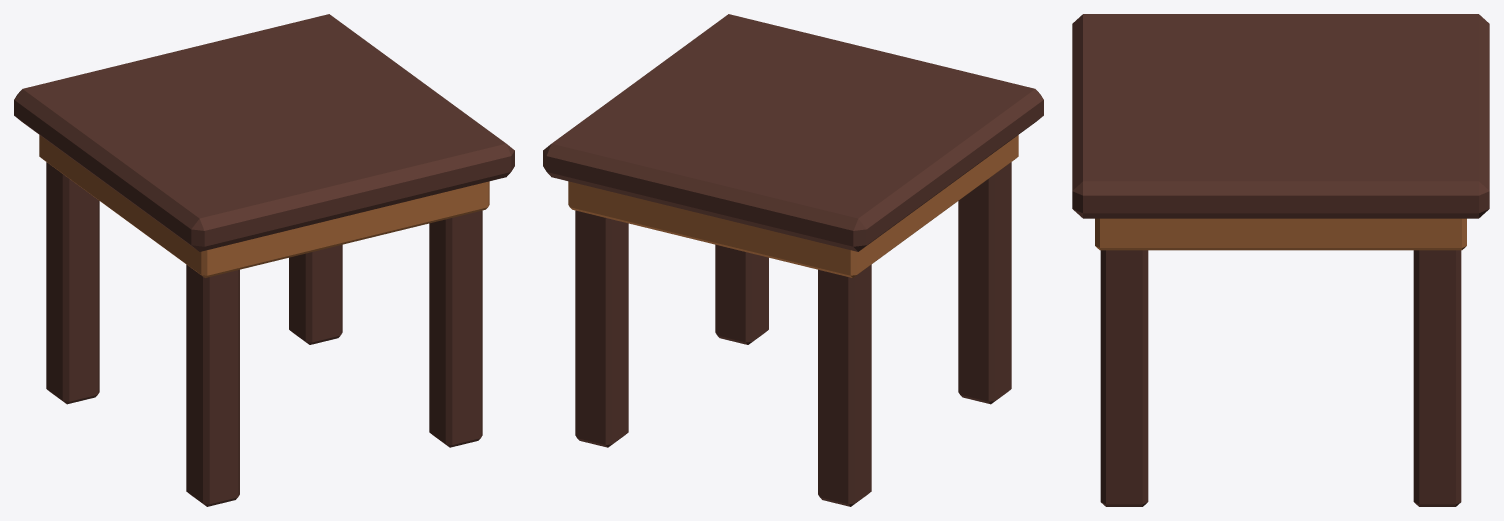
The model's file is table_square.glb.
3 views of the same model, side by side, from view 1: azimuth 30°, elevation 25°; view 2: azimuth 150°, elevation 25°; view 3: azimuth 270°, elevation 25° (orthographic). The views are drawn at different scales.
Visible parts, largest first — view 1: Pé, Saia; view 2: Pé, Saia; view 3: Pé, Saia.
Part boxes in pixels (bbox=[...]): Pé: bbox=[14, 14, 514, 506]; Saia: bbox=[39, 135, 489, 277]; Pé: bbox=[543, 14, 1043, 506]; Saia: bbox=[568, 135, 1018, 277]; Pé: bbox=[1072, 14, 1489, 506]; Saia: bbox=[1095, 218, 1466, 250].
Bounding box in the file's own units: 0.92 × 0.8156 × 0.92.
